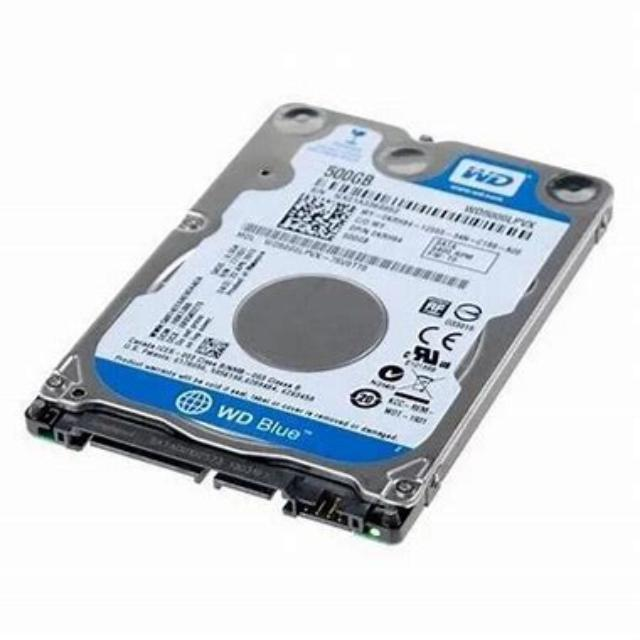HDD: (24, 103, 616, 546)
